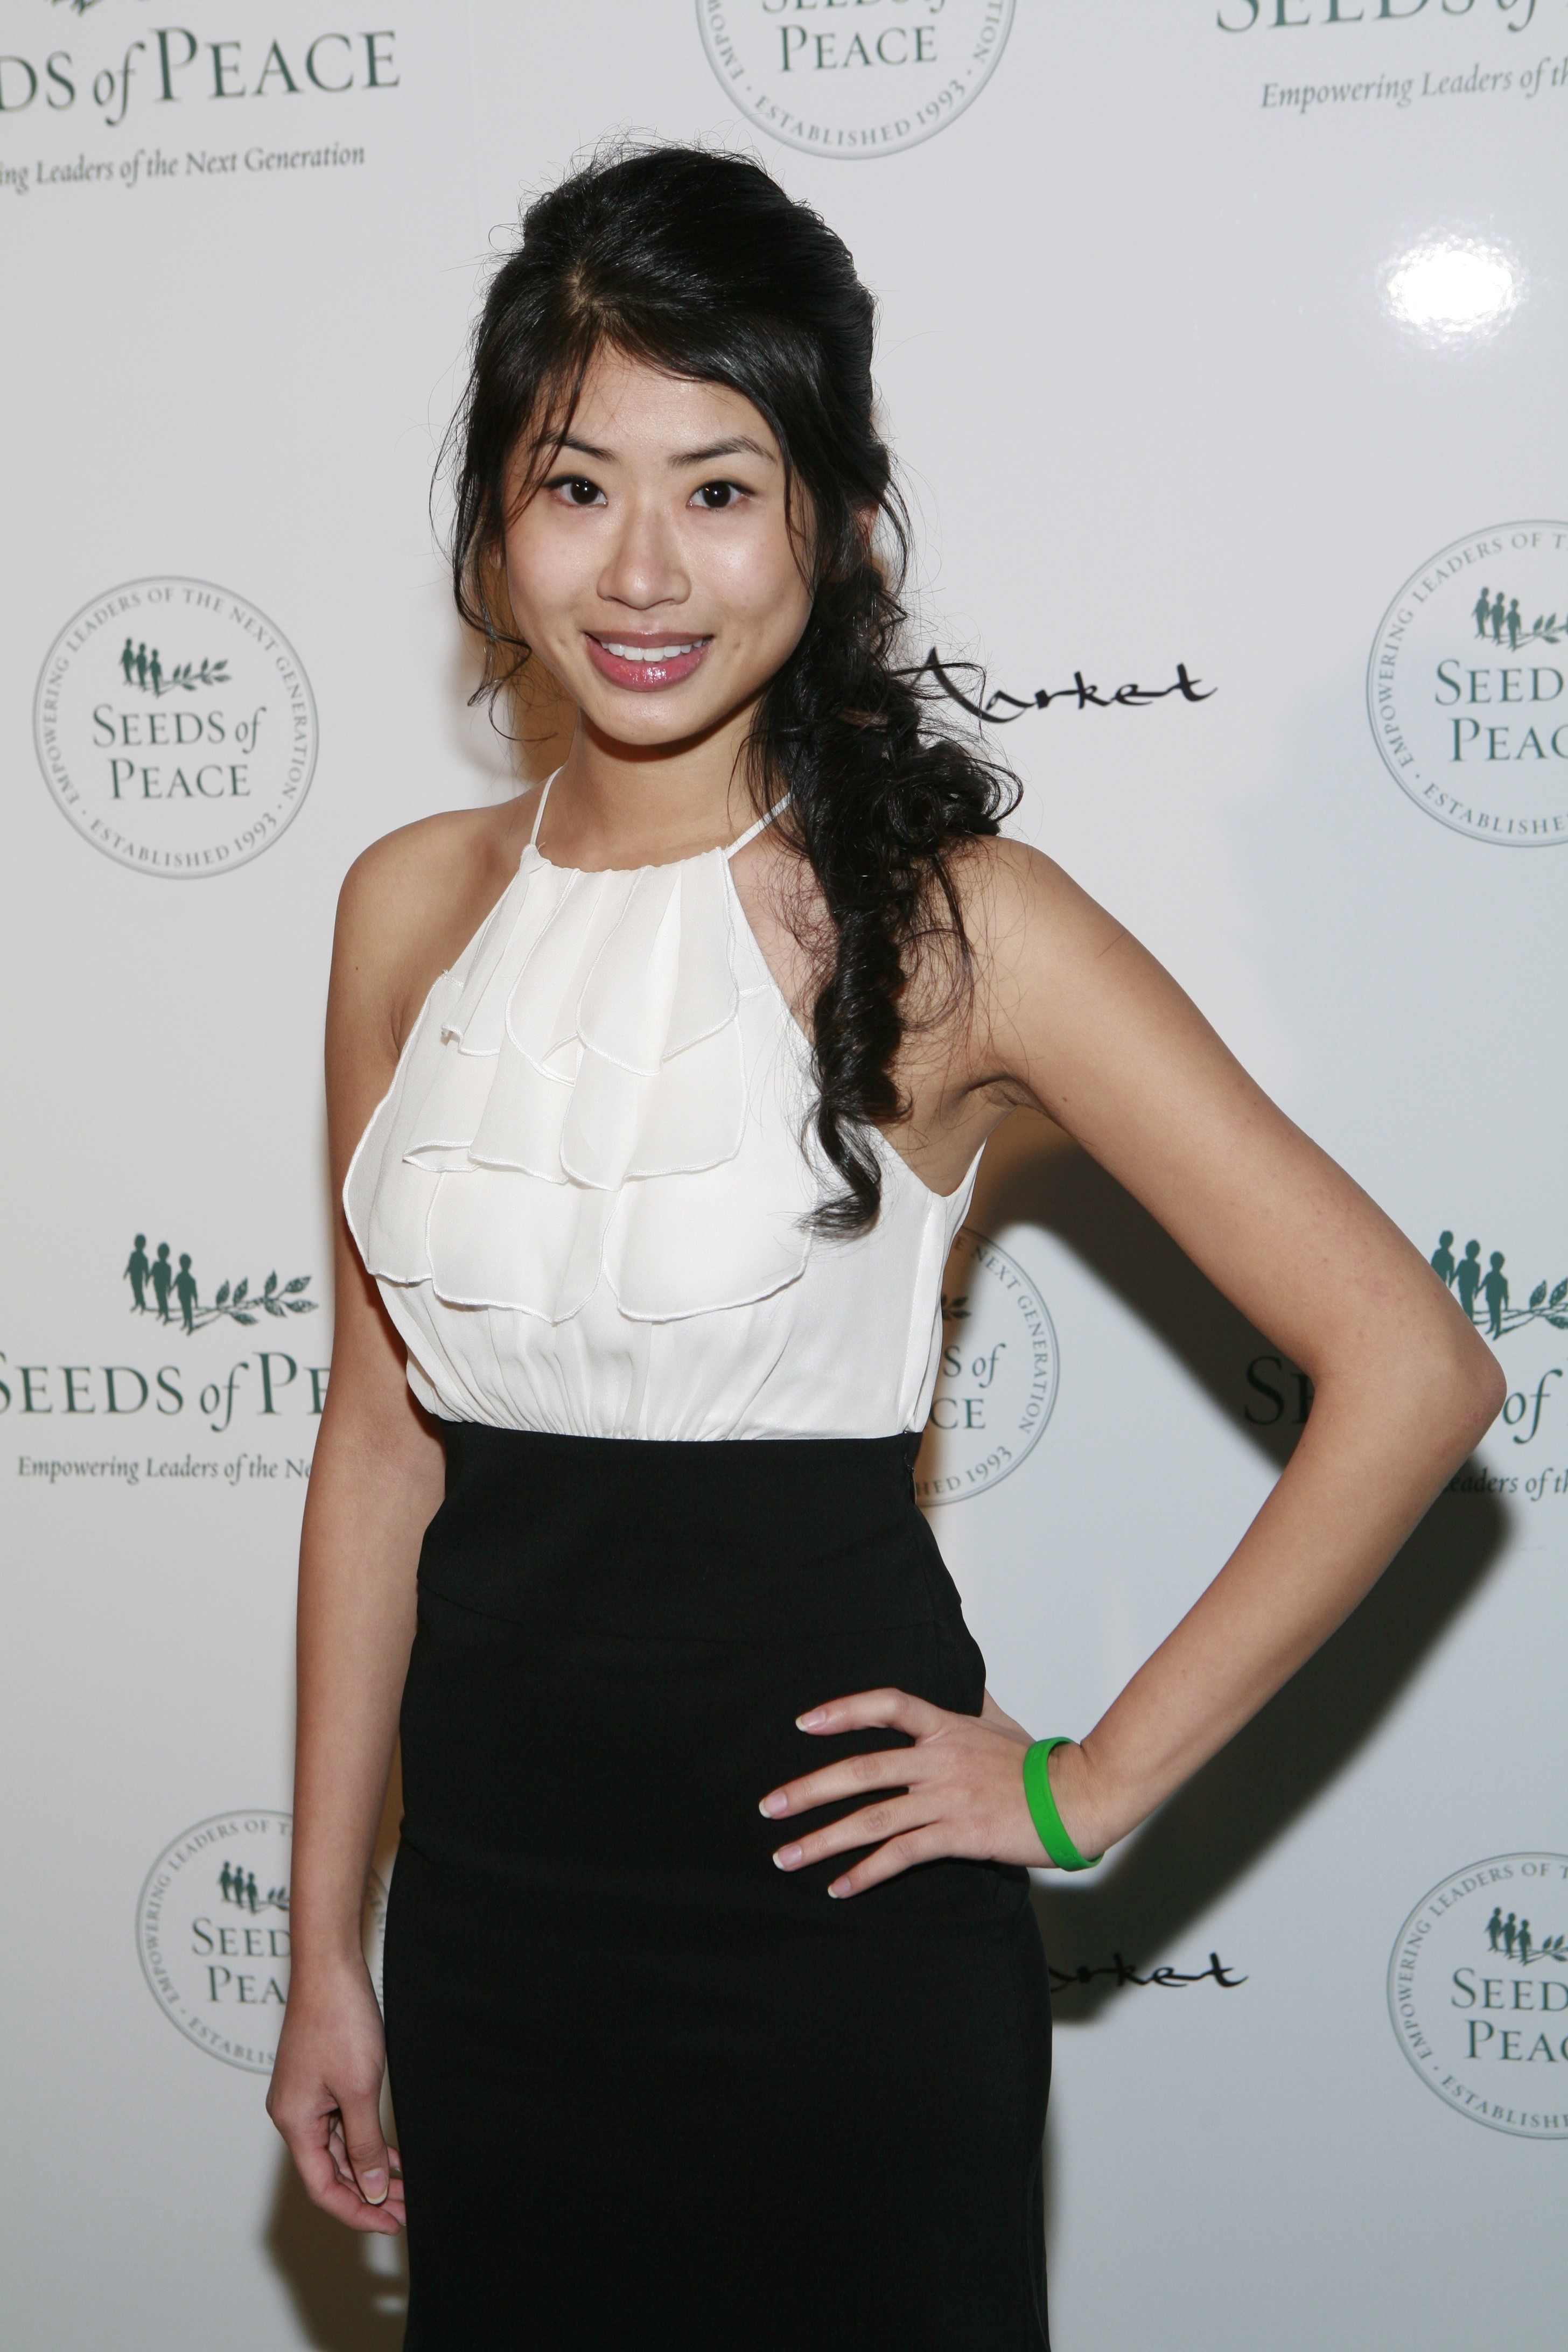face_no_mask: (458, 146, 884, 750)
